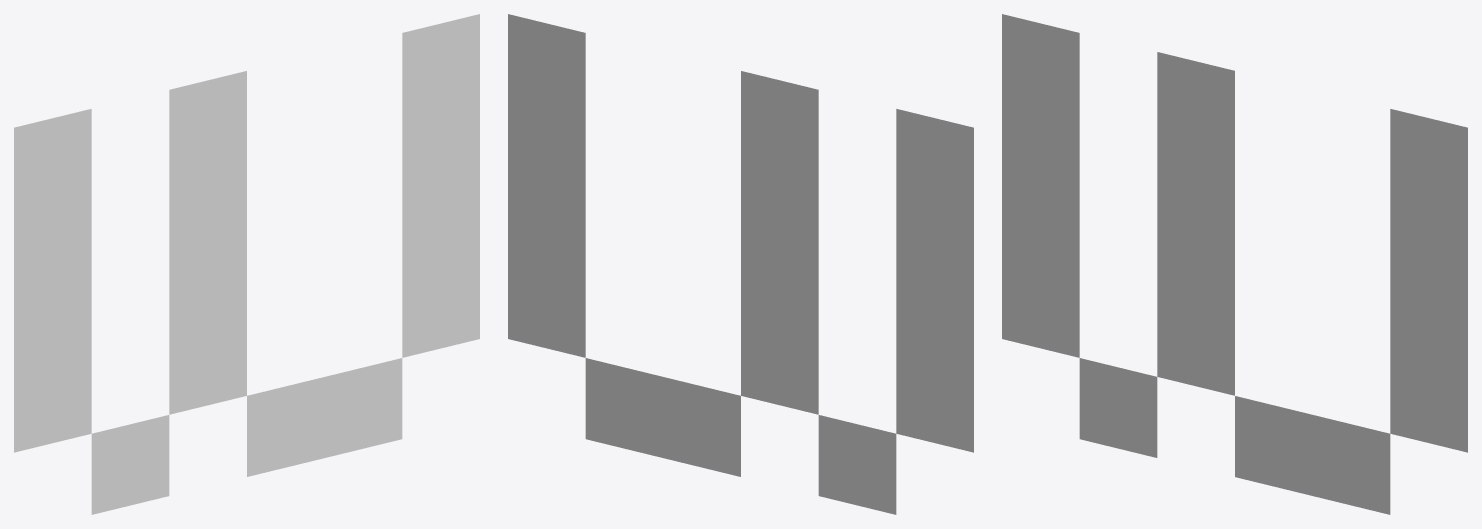
File: chr119_wtf.obj
3 views of the same model, side by side, from view 1: azimuth 30°, elevation 25°; view 2: azimuth 150°, elevation 25°; view 3: azimuth 330°, elevation 25° (orthographic).
Visible parts, largest first — view 1: group1; view 2: group1; view 3: group1.
Boxes of the visible parts, x1,y1,x2,y2 form: group1: [14, 14, 479, 514]; group1: [508, 14, 973, 514]; group1: [1002, 14, 1467, 514].
Size of the model in its own units: 660 by 550 by 1e-05.
